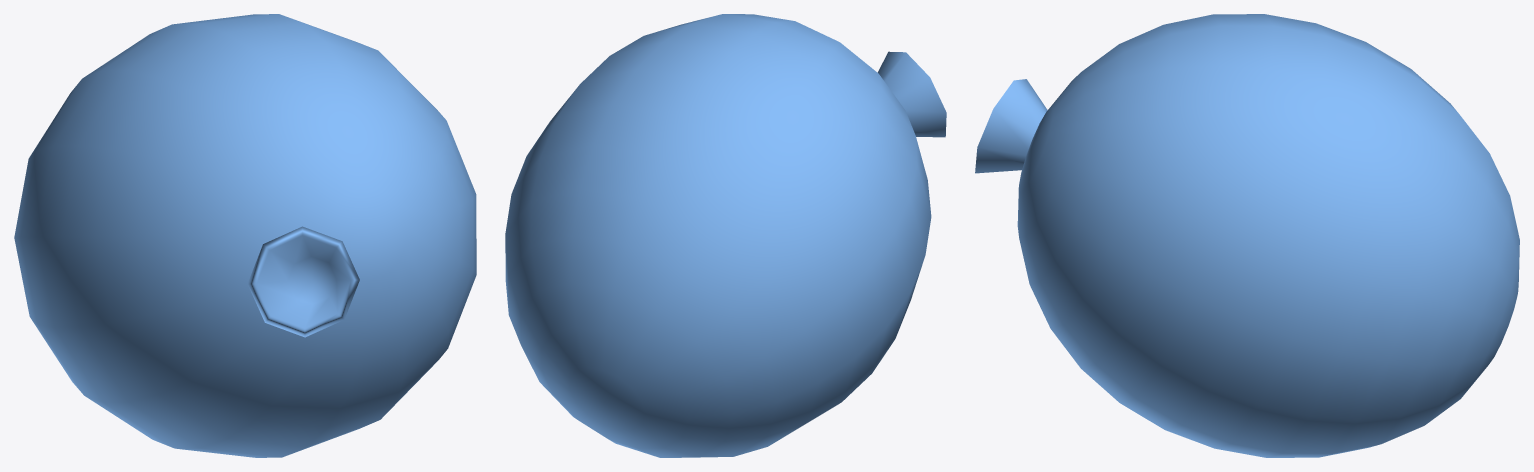
File: balloon.fbx
3 views of the same model, side by side, from view 1: azimuth 30°, elevation 25°; view 2: azimuth 150°, elevation 25°; view 3: azimuth 270°, elevation 25° (orthographic). The views are drawn at different scales.
Visible parts, largest first — view 1: balloon; view 2: balloon; view 3: balloon.
Part boxes in pixels (left/top/right/bottom): balloon: left=14, top=14, right=476, bottom=457; balloon: left=505, top=14, right=946, bottom=457; balloon: left=975, top=14, right=1519, bottom=457.
Size of the model in its own units: 17.23 by 17.86 by 21.75.
1 material, 1 textured.
